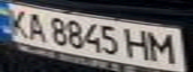4: (81, 20, 103, 54)
5: (100, 22, 124, 56)
8: (45, 15, 69, 47), (63, 18, 84, 51)
A: (21, 10, 48, 42)
H: (124, 26, 154, 61)
K: (0, 6, 30, 38)
M: (145, 29, 184, 64)
